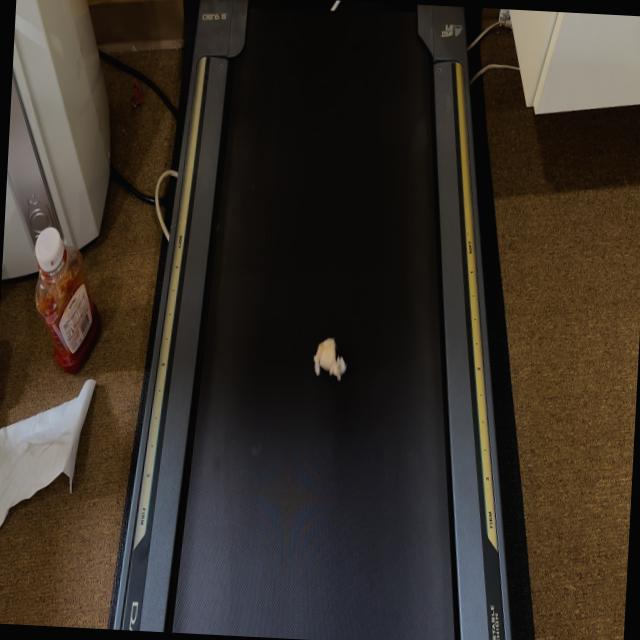Recycle: (312, 336, 348, 384)
